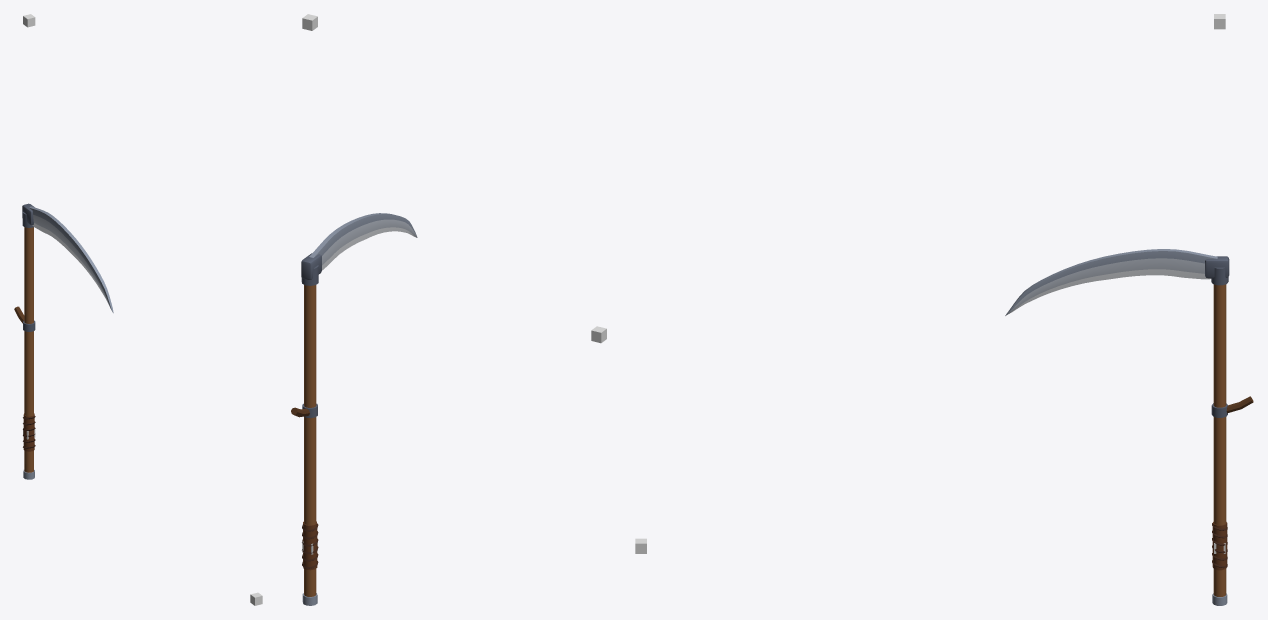
The model's file is Scythe.fbx.
3 renders of one model, left to right at view 1: azimuth 30°, elevation 25°; view 2: azimuth 150°, elevation 25°; view 3: azimuth 270°, elevation 25°, orthographic. The views are drawn at different scales.
Visible parts, largest first — view 1: Body; view 2: Body; view 3: Body.
Part boxes in pixels (x1=…): Body: x1=14, y1=203, x2=113, y2=479; Body: x1=291, y1=213, x2=417, y2=605; Body: x1=1005, y1=249, x2=1253, y2=605.
Bounding box in the file's own units: 0.294 × 11.18 × 10.68.
Materials: 1 (1 with a texture image).
